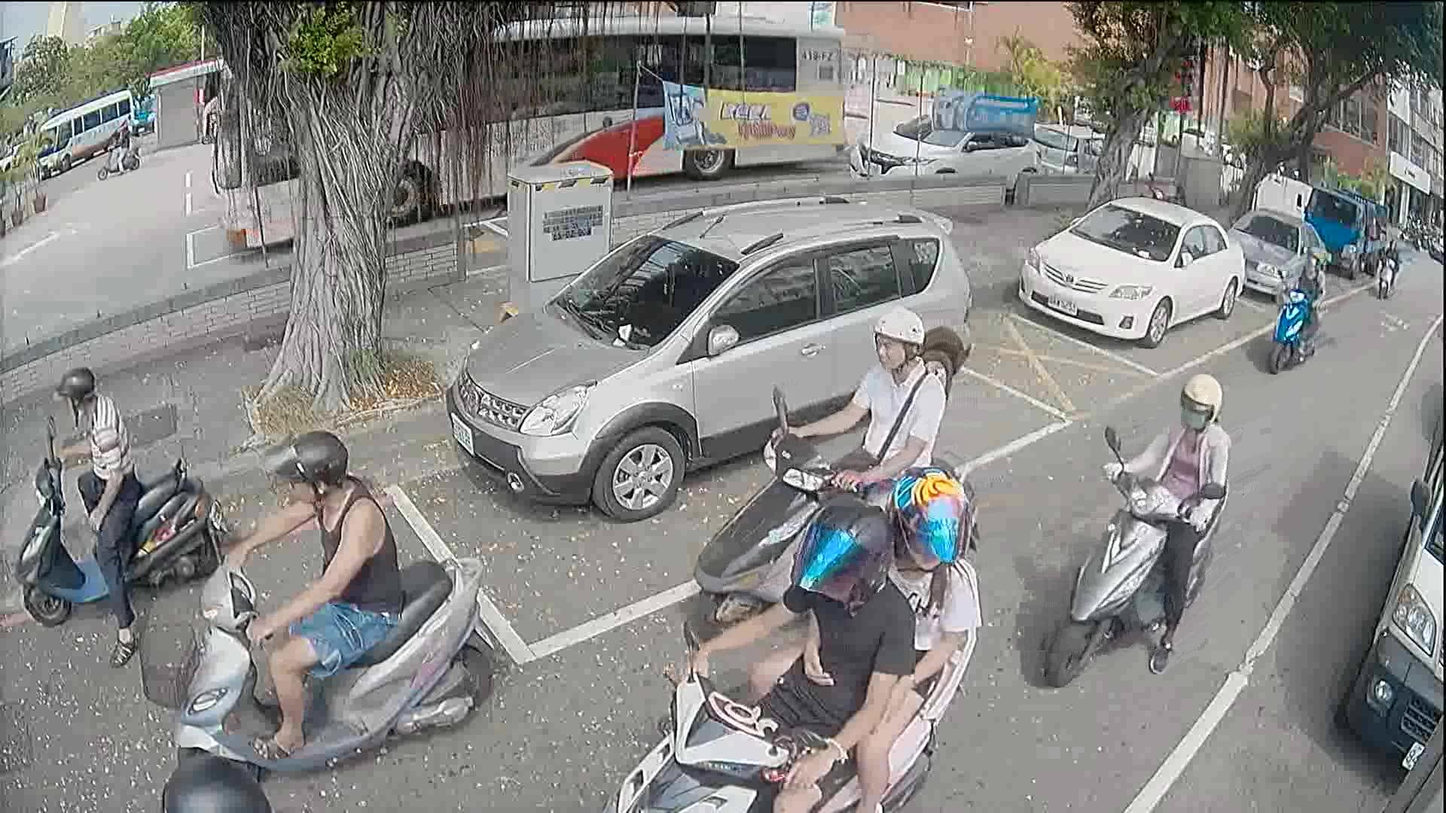person: (748, 455, 985, 811), (657, 492, 908, 812), (214, 423, 403, 769), (1091, 371, 1231, 665), (770, 303, 950, 501), (41, 359, 143, 659), (160, 743, 276, 812), (1271, 251, 1326, 361), (108, 122, 132, 174), (1384, 237, 1398, 263)
